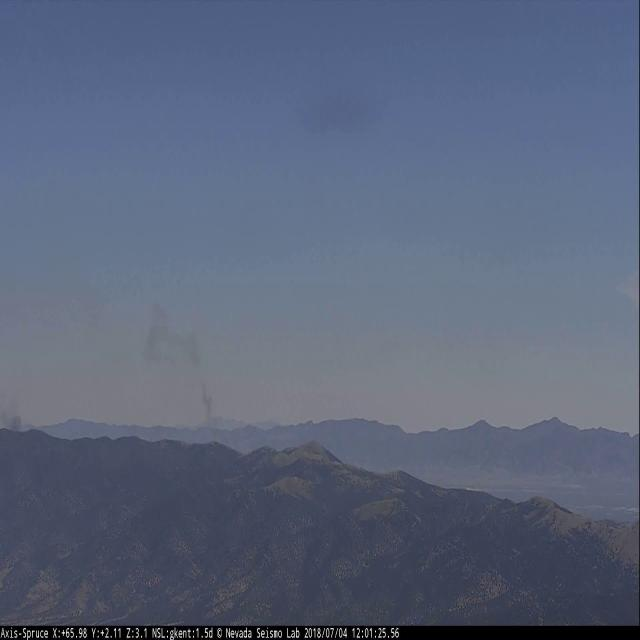smoke: (140, 287, 222, 449)
